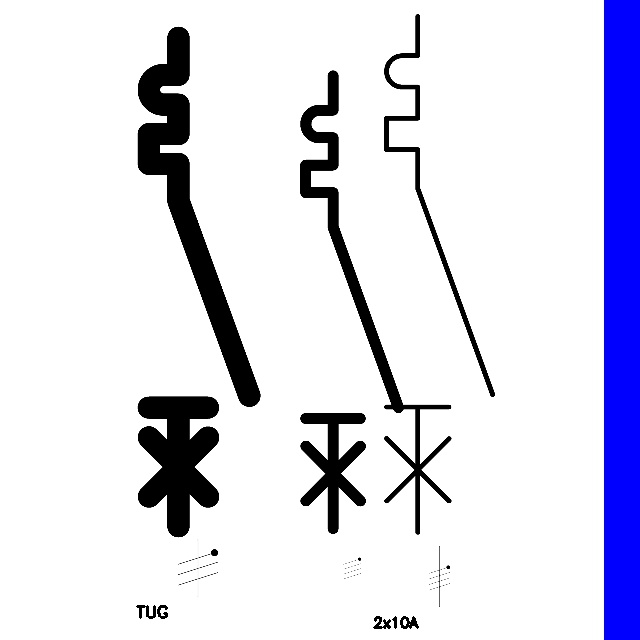interruptor_termomagnetico: (373, 3, 506, 546), (136, 25, 262, 539), (294, 64, 410, 540)
